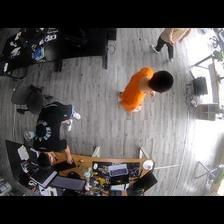normal: (31, 99, 79, 168), (117, 63, 176, 116), (152, 27, 193, 60)
